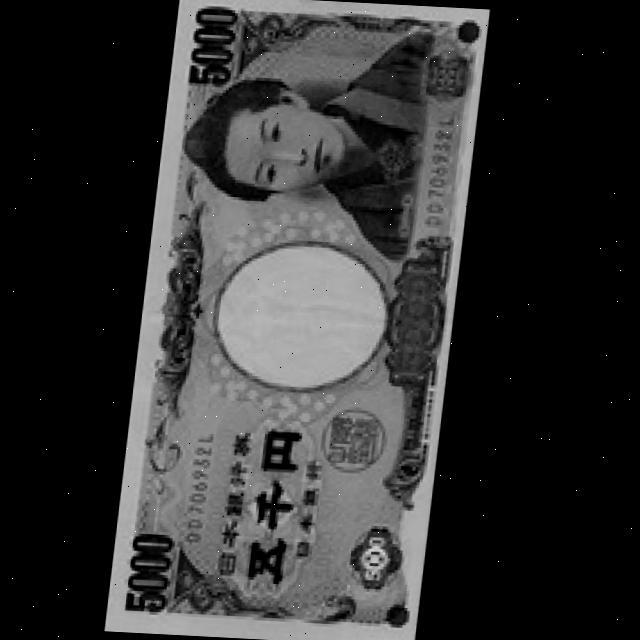banknote: (109, 0, 490, 640)
